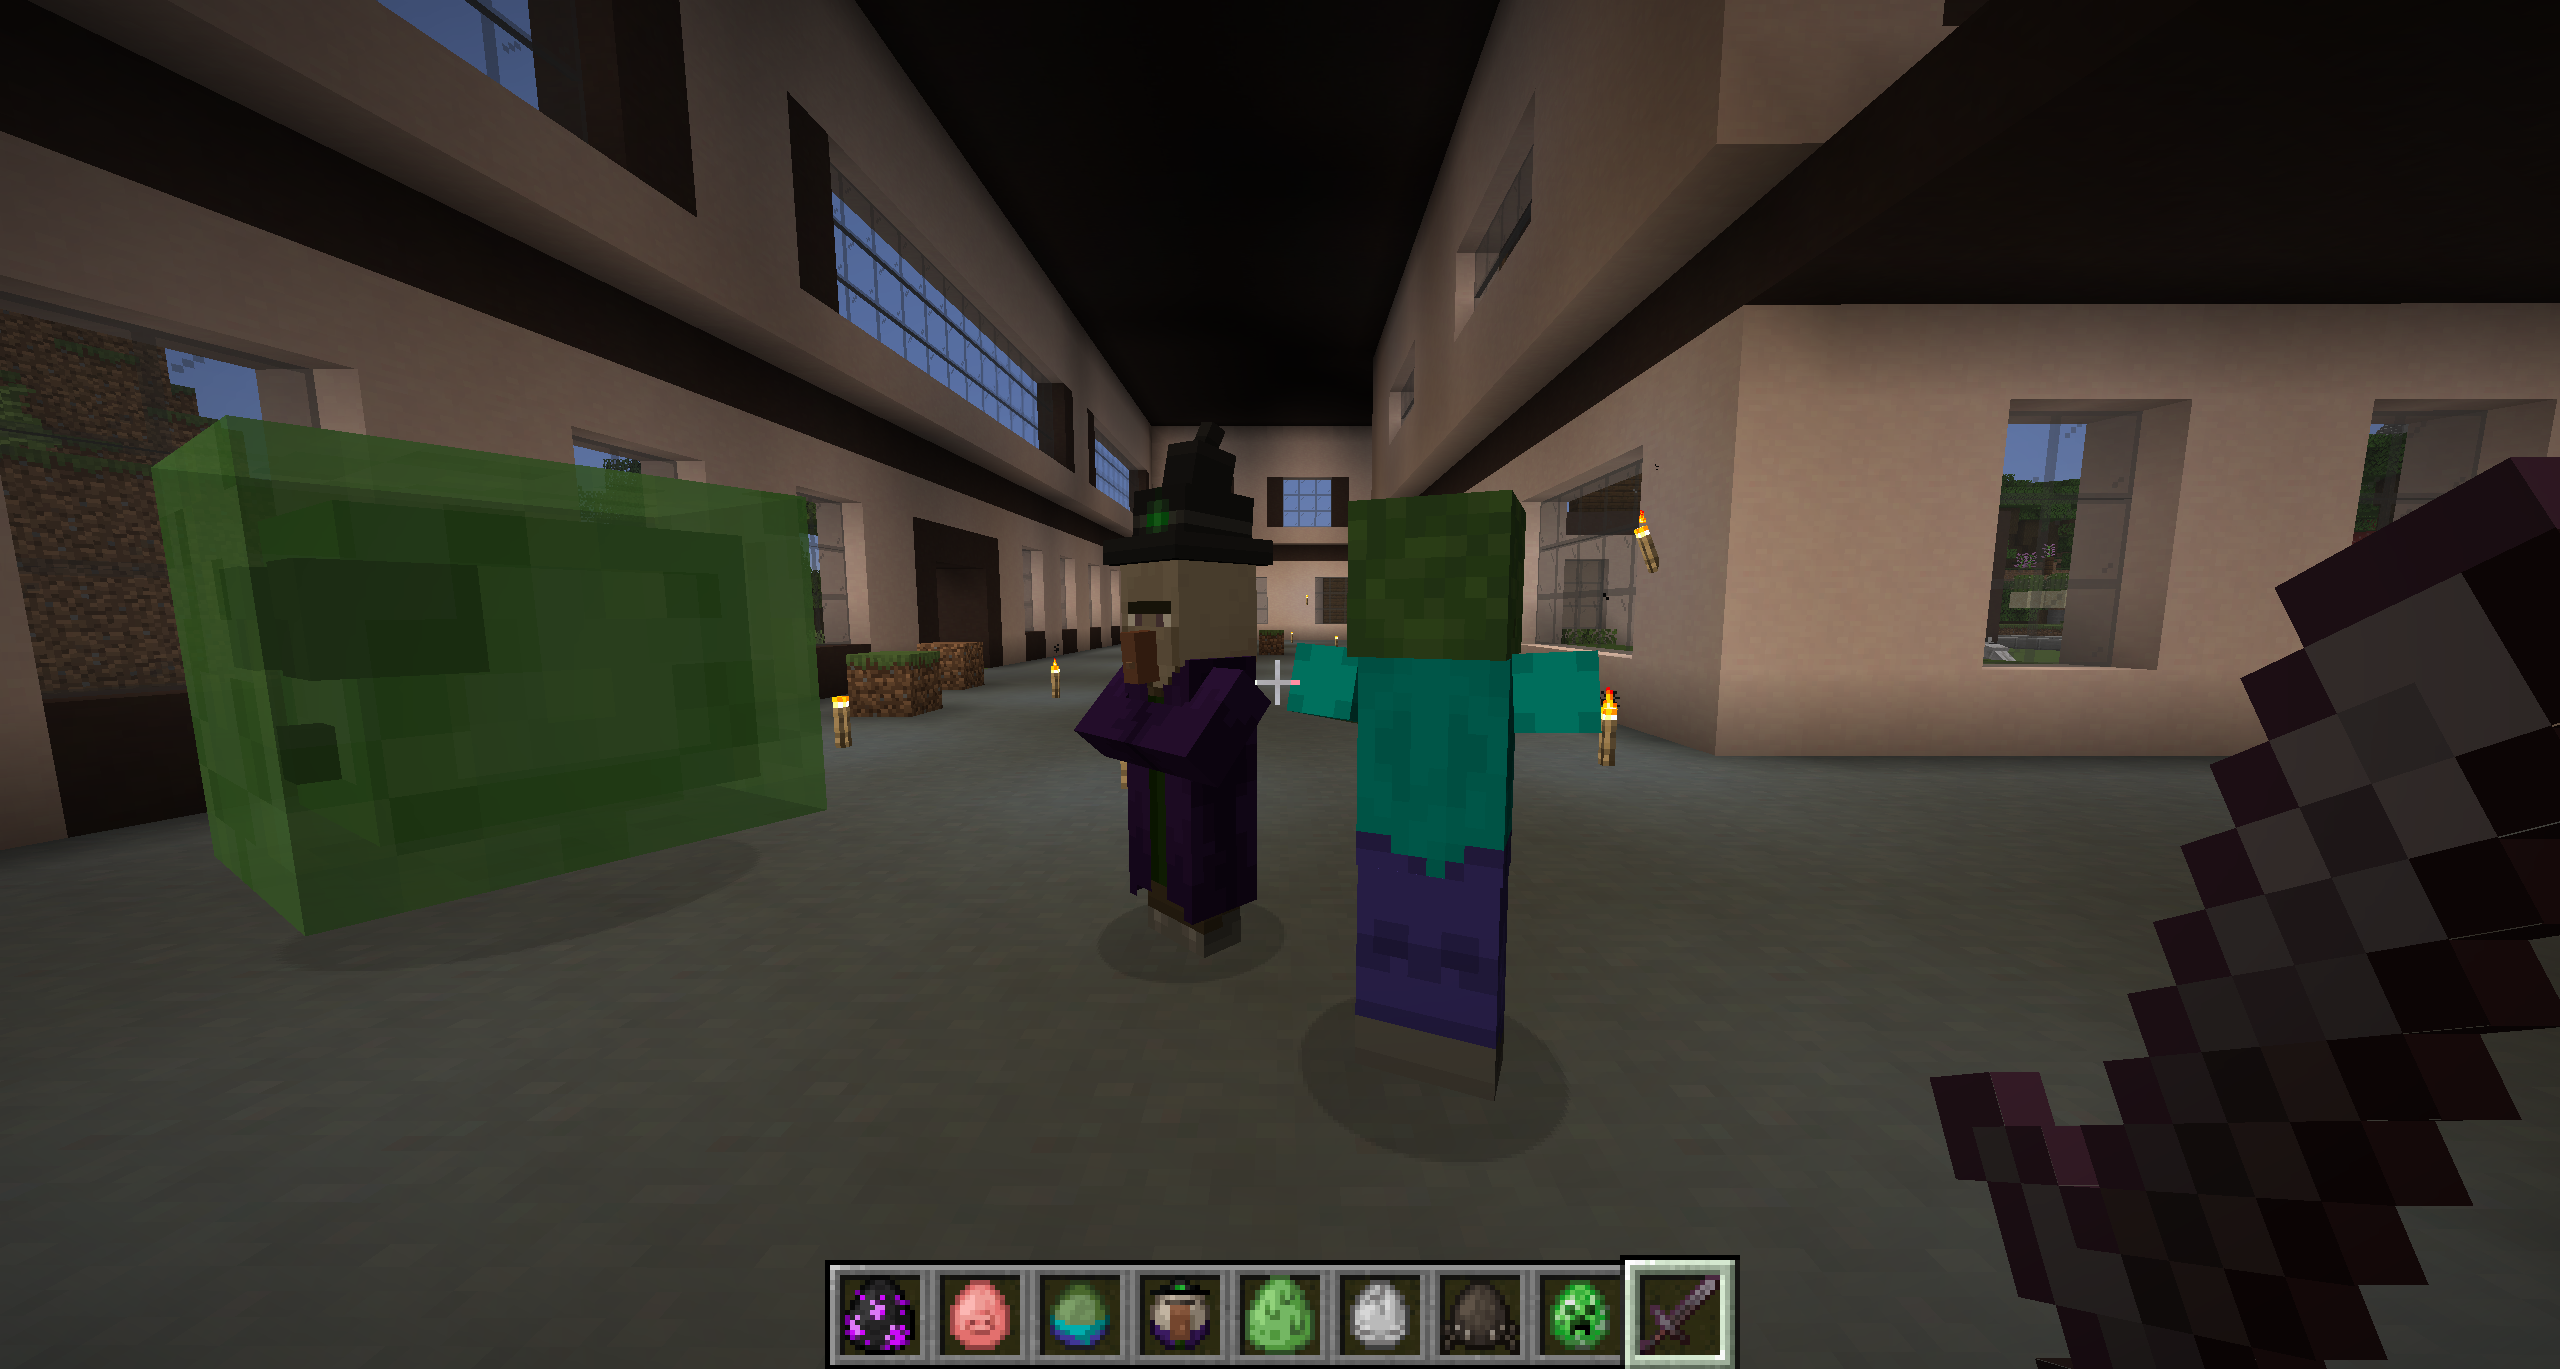slimes: (141, 399, 831, 902)
sorcieres: (1102, 418, 1266, 965)
zombies: (1292, 494, 1598, 1100)
